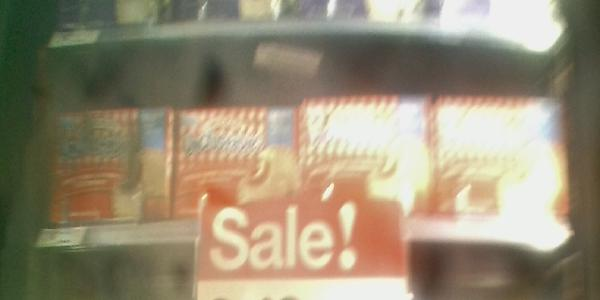icecream: (430, 94, 574, 234), (299, 94, 432, 226), (40, 105, 171, 227), (172, 106, 299, 231)
